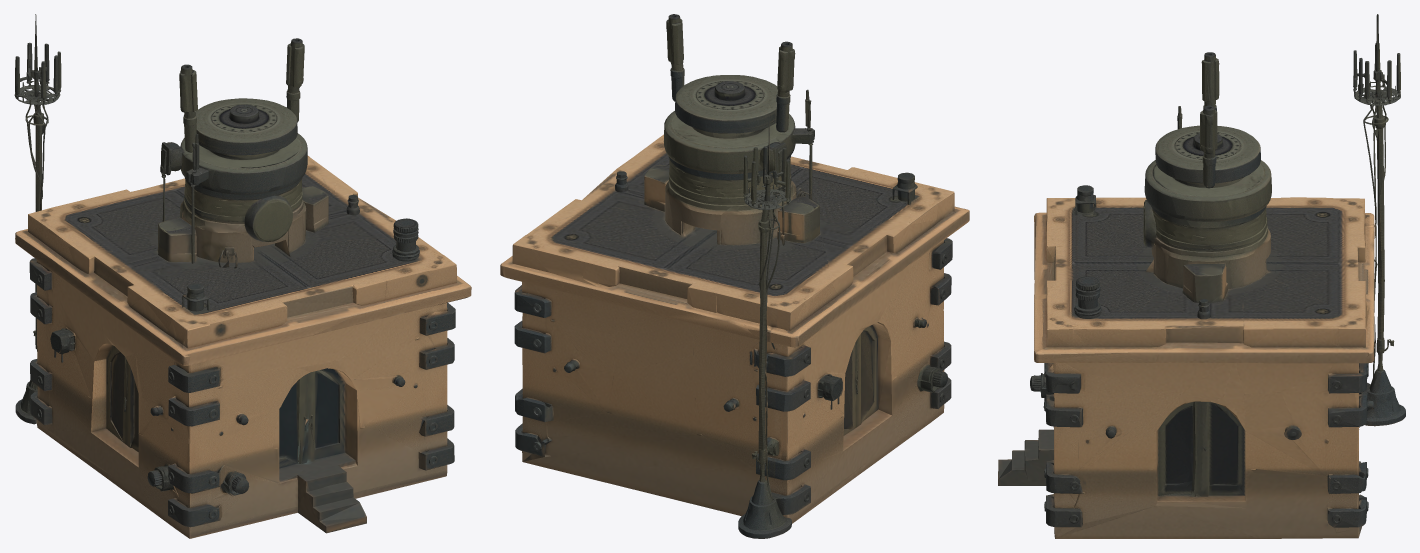
The model's file is bastion.glb.
3 renders of one model, left to right at view 1: azimuth 30°, elevation 25°; view 2: azimuth 150°, elevation 25°; view 3: azimuth 270°, elevation 25°, orthographic. The views are drawn at different scales.
Size of the model in its own units: 1.39 by 1.82 by 1.67.
1 material, 1 textured.
